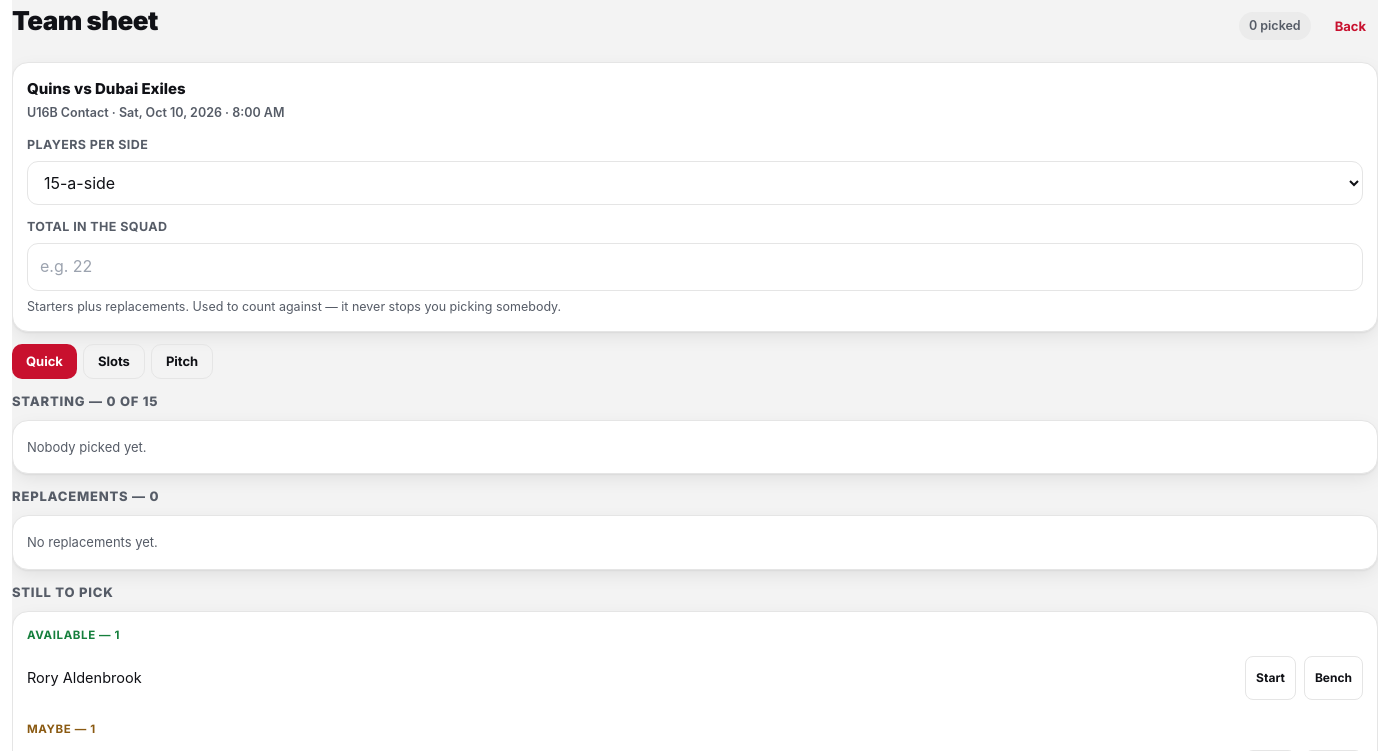
picking › moves a starter to the bench and back
The width and height of the screenshot is (1390, 751).
Expected: the text "Rory Aldenbrook" is shown, [27,670,142,686]
What coordinates should you click on to do the following:
click the button "Start" in the row of "Rory Aldenbrook"
I would click on:
 (1270, 678)
Its box is [1245,656,1296,700].
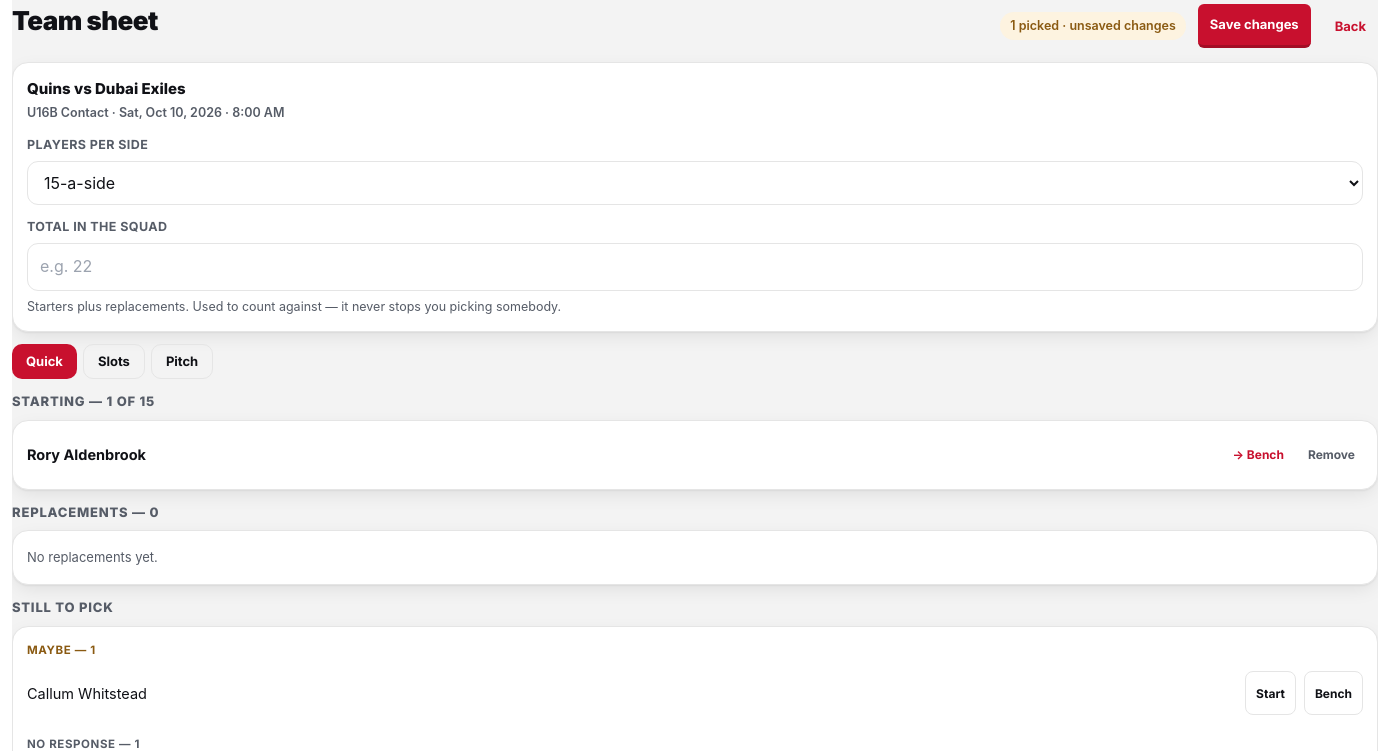
What coordinates should you click on to do the following:
click the button "→ Bench"
I would click on:
 (1258, 454)
Its box is [1224,432,1292,476].
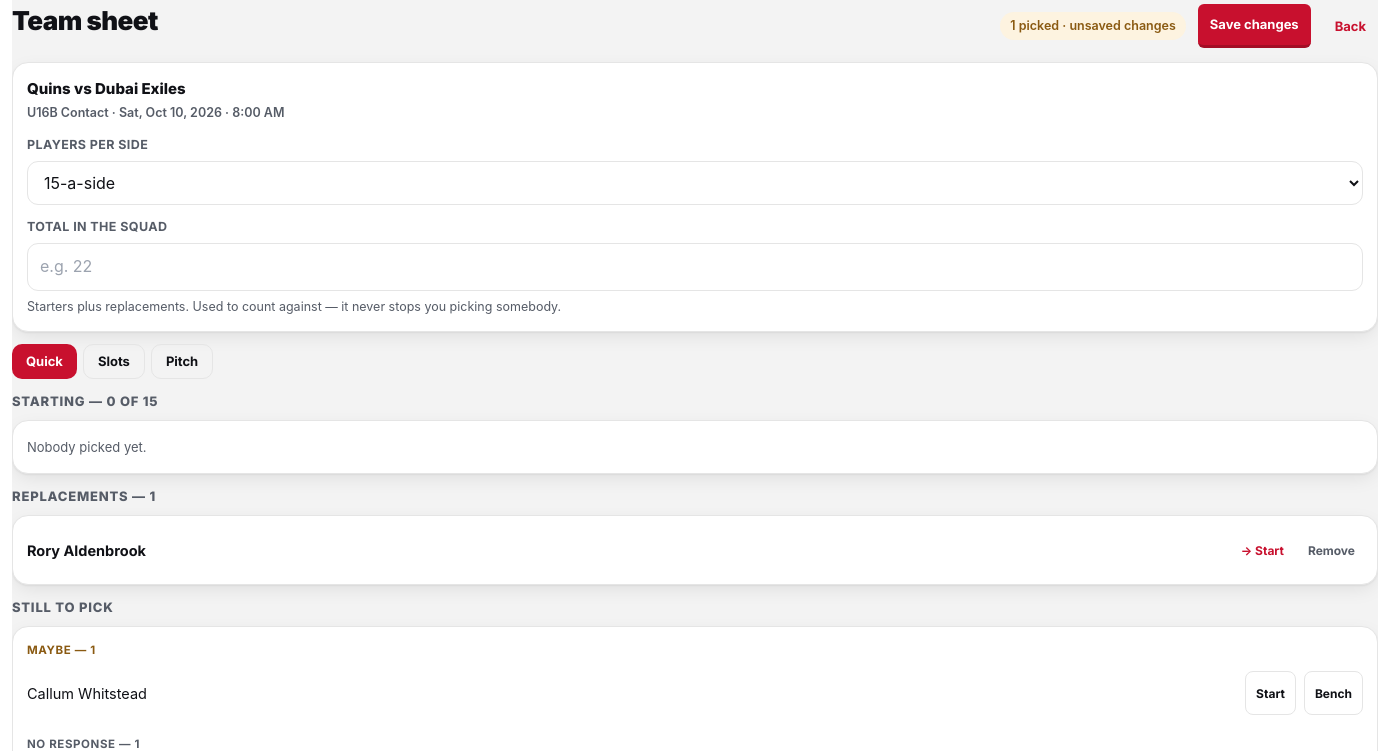
Expected: the heading "Replacements — 1" is shown, [12,486,156,507]
Expected: the heading "Starting — 0 of 15" is shown, [12,391,158,412]
